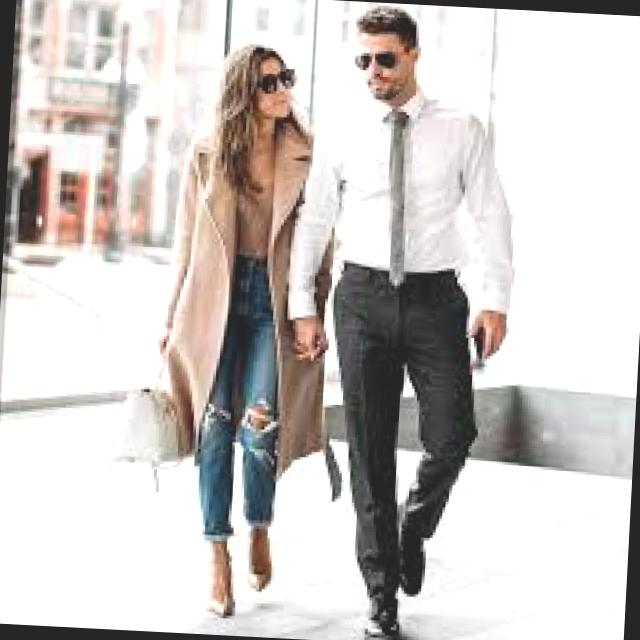face: (355, 34, 416, 103), (253, 57, 292, 120)
foot-wear: (385, 510, 436, 600), (202, 534, 236, 618), (242, 528, 283, 596), (357, 592, 414, 640)
lower-wear: (332, 263, 474, 607), (196, 258, 278, 541)
top-wear: (281, 90, 527, 330)
